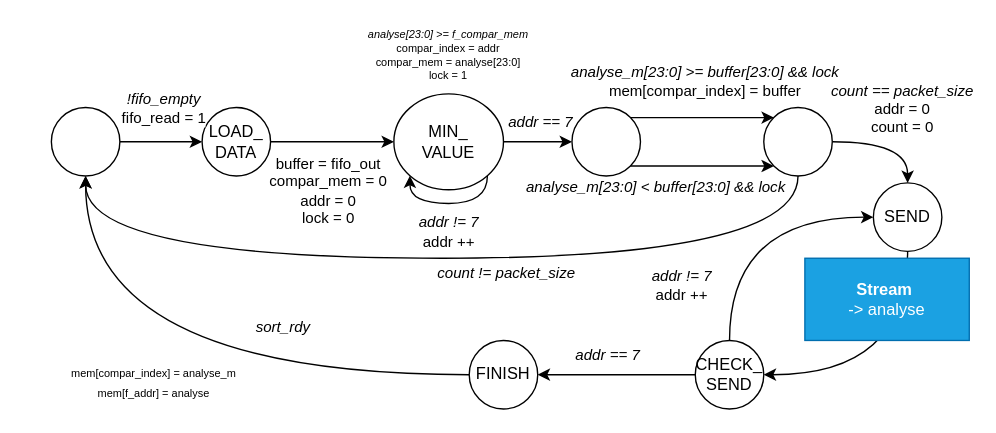
Some shapes in this 996 by 433 pixel diagram are drawn without their labels. Here are the shapes that lost their labels. From the top down, the box of each, then its label:
(50, 106, 120, 176): IDLE
(571, 106, 640, 176): SAVE
(762, 106, 832, 176): START_ SEND
